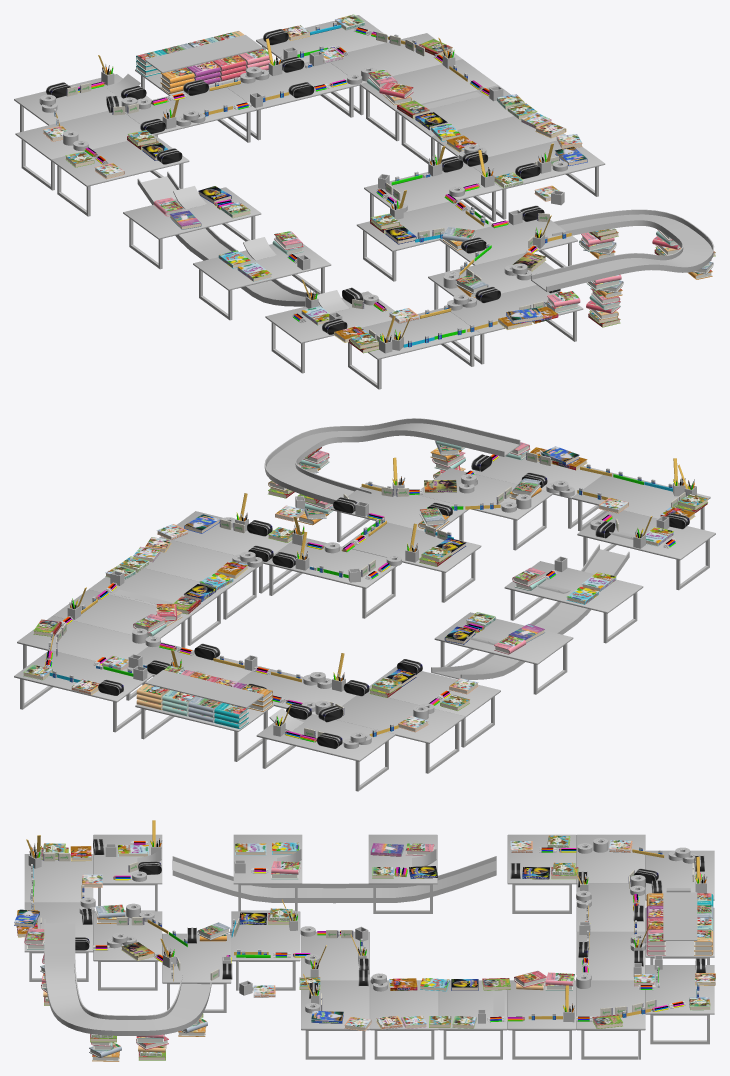
Rendered from track2.fbx.
The picture shows the model from 3 angles, top to bottom: view 1: azimuth 30°, elevation 25°; view 2: azimuth 150°, elevation 25°; view 3: azimuth 270°, elevation 25°; orthographic projection. The views are drawn at different scales.
Parts seen in each view (by area): view 1: meja, naik, naik3, naik4; view 2: meja, naik, naik3, naik4; view 3: meja, naik, naik3, naik4, Cube.052, Cube.010, Cube.012, Cube.013.
Part boxes in pixels (x1,y1,x2,y2): meja: [14, 15, 605, 389]; naik: [531, 209, 714, 291]; naik3: [137, 171, 320, 306]; naik4: [144, 35, 263, 73]; meja: [14, 456, 715, 791]; naik: [264, 418, 520, 504]; naik3: [431, 544, 629, 679]; naik4: [145, 670, 263, 708]; meja: [24, 834, 714, 1059]; naik: [44, 919, 211, 1035]; naik3: [172, 856, 496, 903]; naik4: [663, 892, 697, 940]; Cube.052: [235, 843, 266, 855]; Cube.010: [370, 843, 403, 856]; Cube.012: [311, 1011, 343, 1023]; Cube.013: [121, 942, 154, 960].
Size of the model in its own units: 405 by 60.48 by 611.
